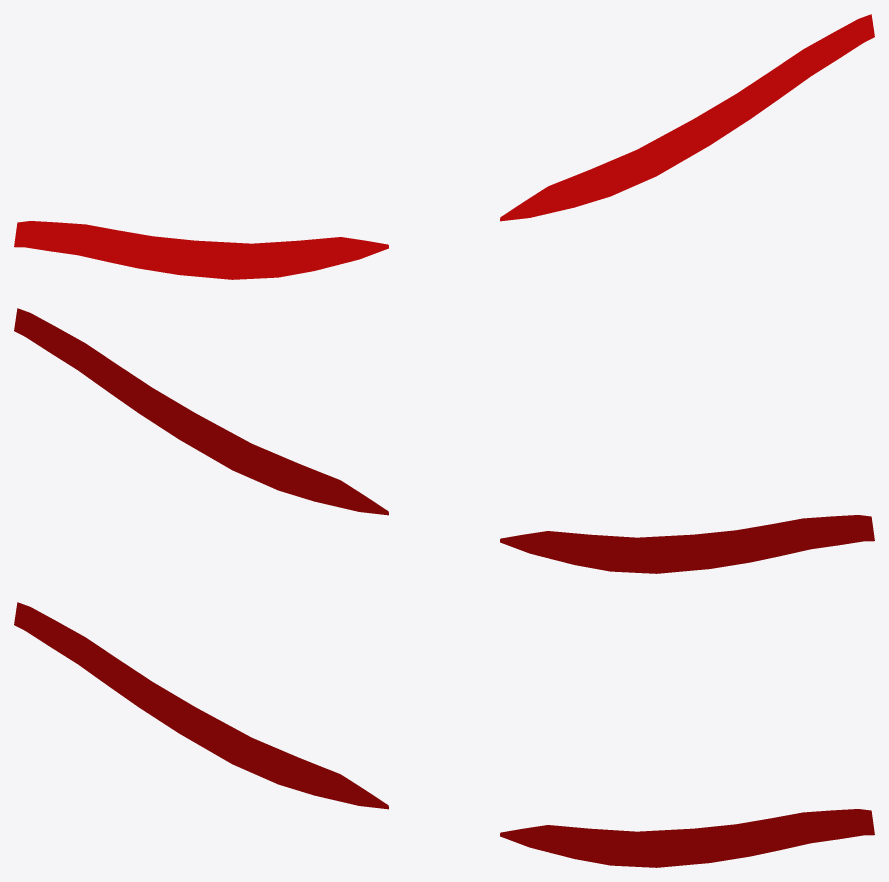
File: frame118.fbx
The picture shows the model from 3 angles, top to bottom: view 1: azimuth 30°, elevation 25°; view 2: azimuth 150°, elevation 25°; view 3: azimuth 330°, elevation 25°; orthographic projection.
Parts seen in each view (by area): view 1: MaterialLayer; view 2: MaterialLayer; view 3: MaterialLayer.
Part boxes in pixels (bbox=[...]): MaterialLayer: bbox=[14, 14, 874, 279]; MaterialLayer: bbox=[14, 308, 874, 573]; MaterialLayer: bbox=[14, 602, 874, 867].
Size of the model in its own units: 1402 by 188 by 1.81e-08.
